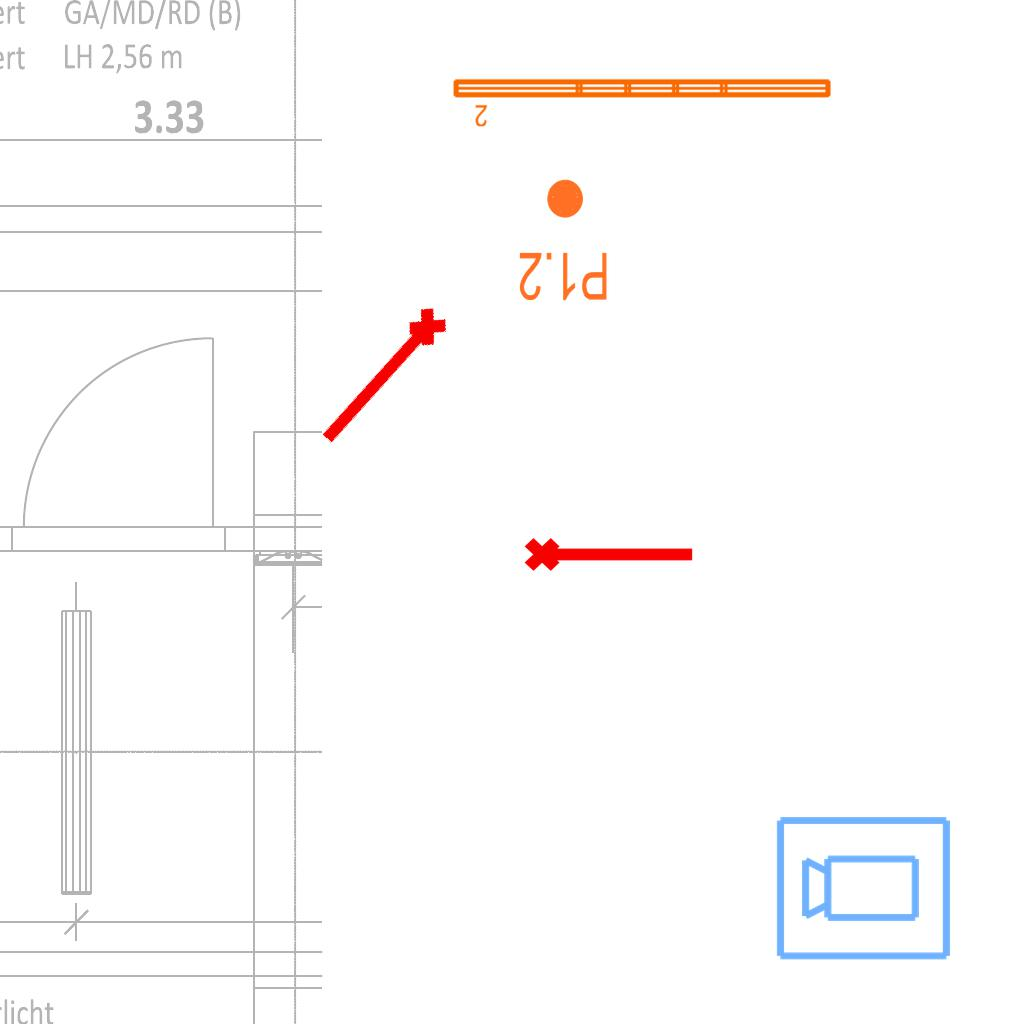ASR_Ansaugoeffnung: (308, 298, 460, 460), (522, 529, 698, 575)
Ambulanz_Pendelleuchte_LED: (449, 73, 836, 129)
Downlight_LED_Einbauleuchten_Flur: (517, 176, 610, 304)
KFO_Kamera_mit_Festobjektiv: (773, 810, 955, 964)
